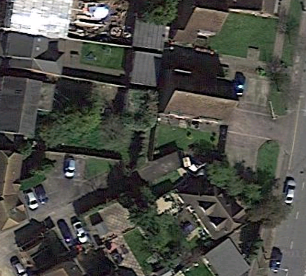tree: (35, 82, 108, 147), (133, 1, 182, 24)
